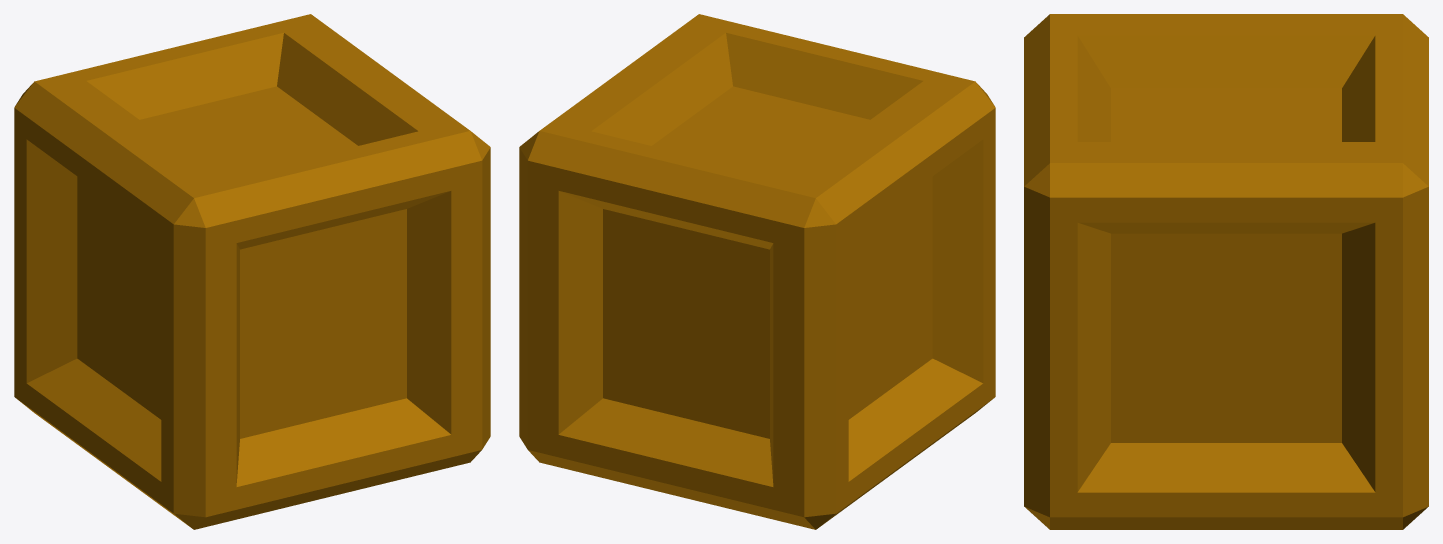
3 renders of one model, left to right at view 1: azimuth 30°, elevation 25°; view 2: azimuth 150°, elevation 25°; view 3: azimuth 270°, elevation 25°, orthographic. The views are drawn at different scales.
Visible parts, largest first — view 1: cubo; view 2: cubo; view 3: cubo.
Boxes of the visible parts, x1,y1,x2,y2 form: cubo: (14,14,490,529); cubo: (519,14,995,529); cubo: (1024,14,1428,529).
Size of the model in its own units: 1.97 by 1.97 by 1.97.
